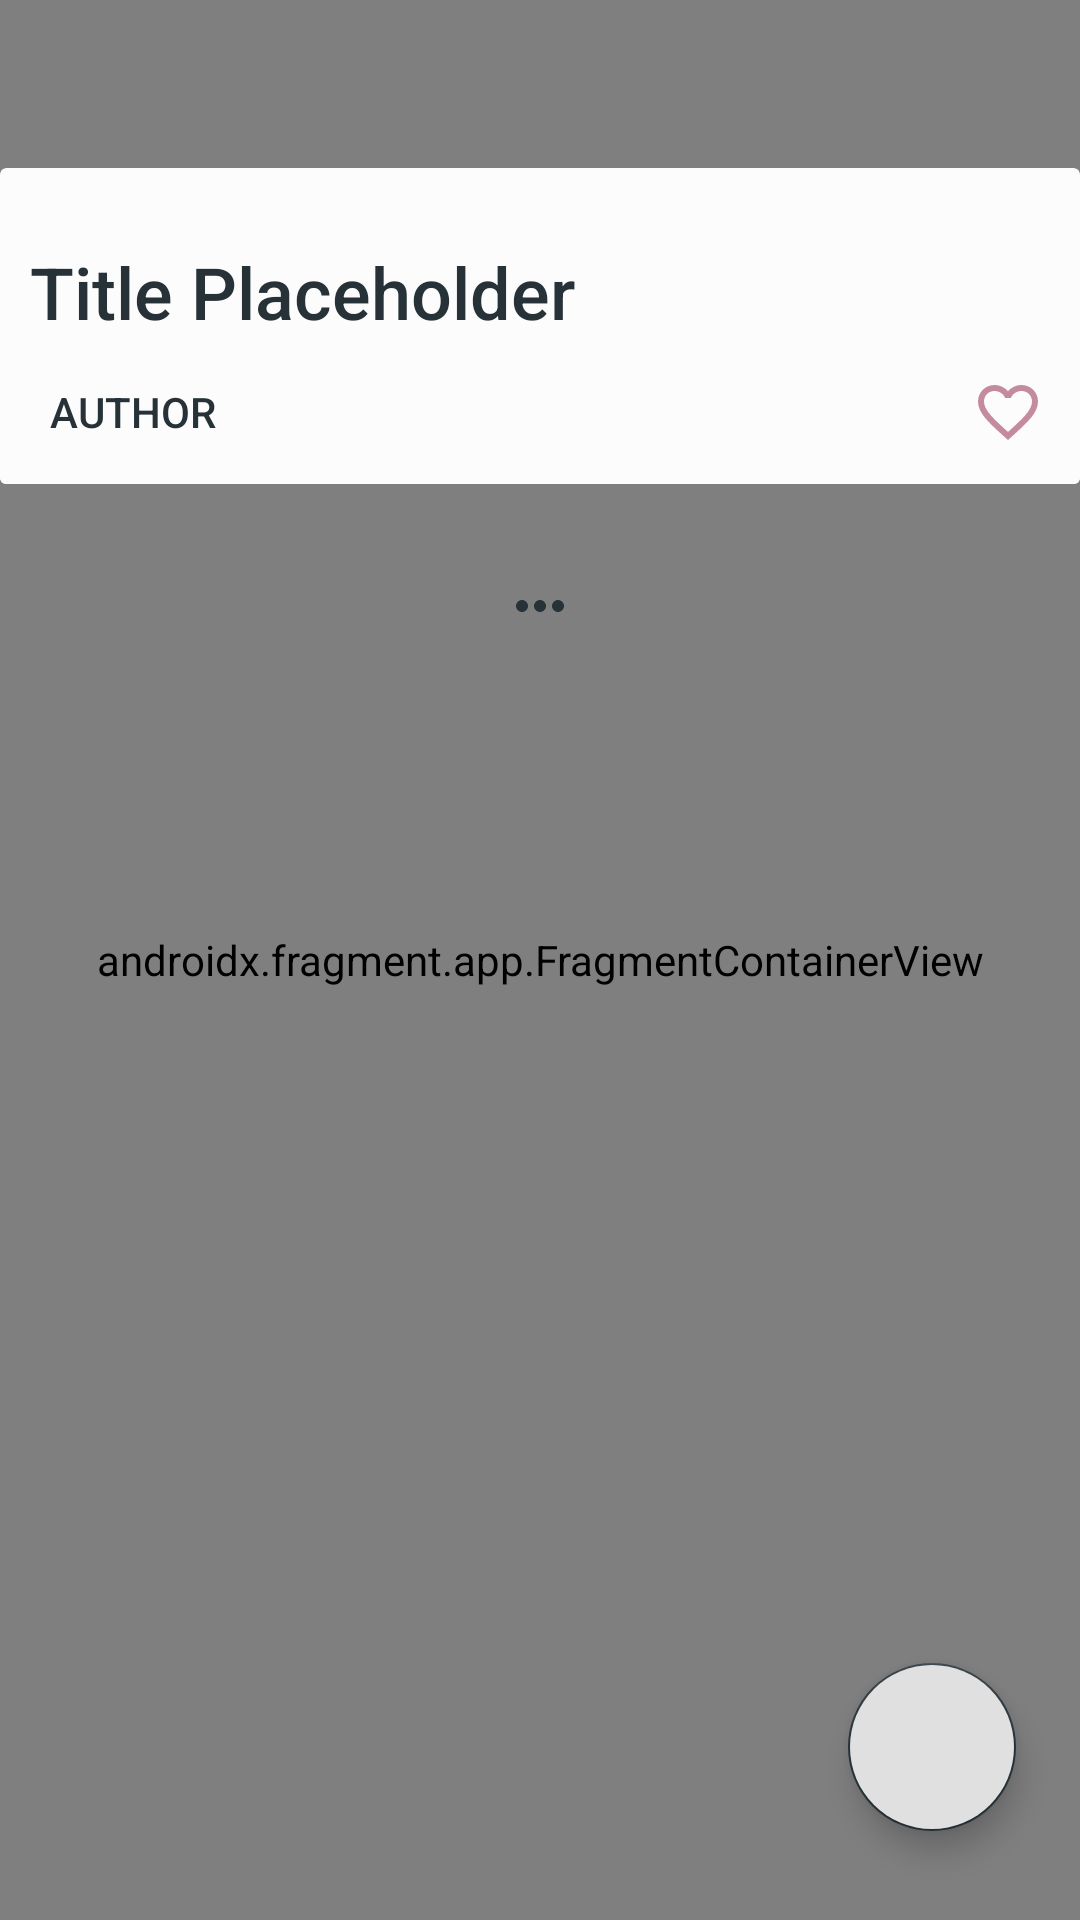

Icons on this 1080px×1920px Android screen, each with the point to tap as point (x, y):
elipsis: point (540, 606)
